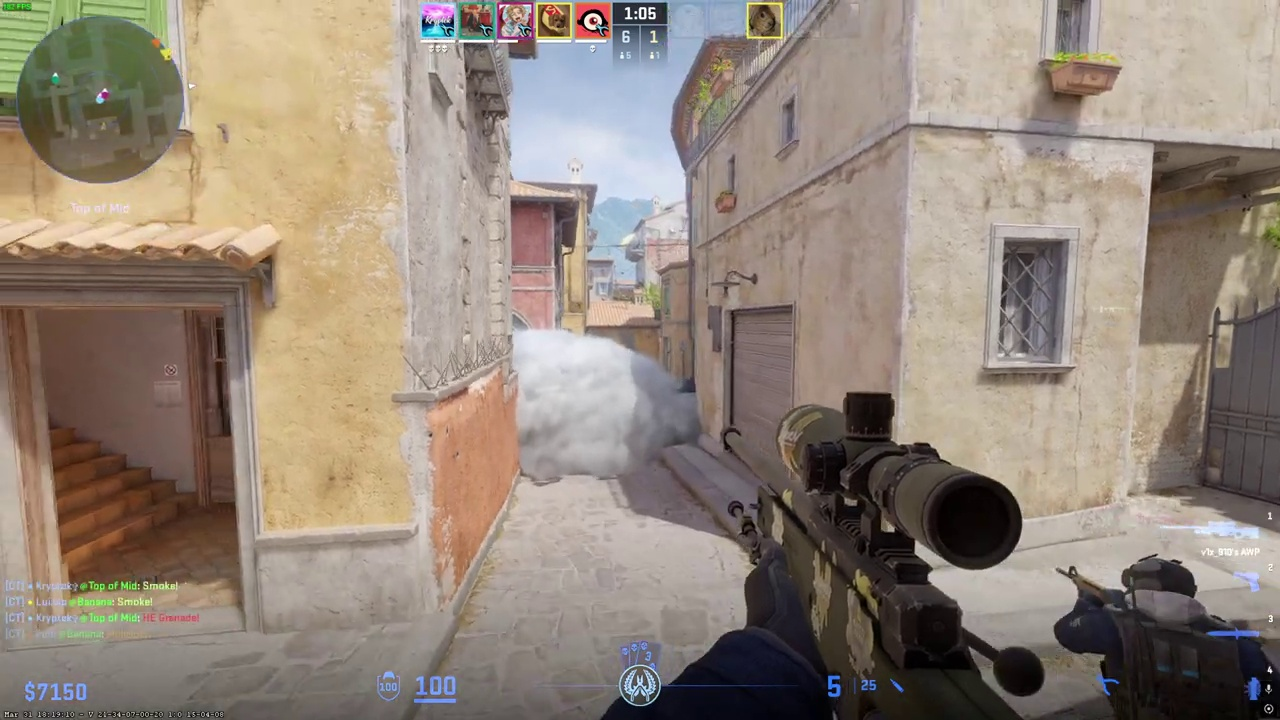CT: (1059, 557, 1280, 720)
